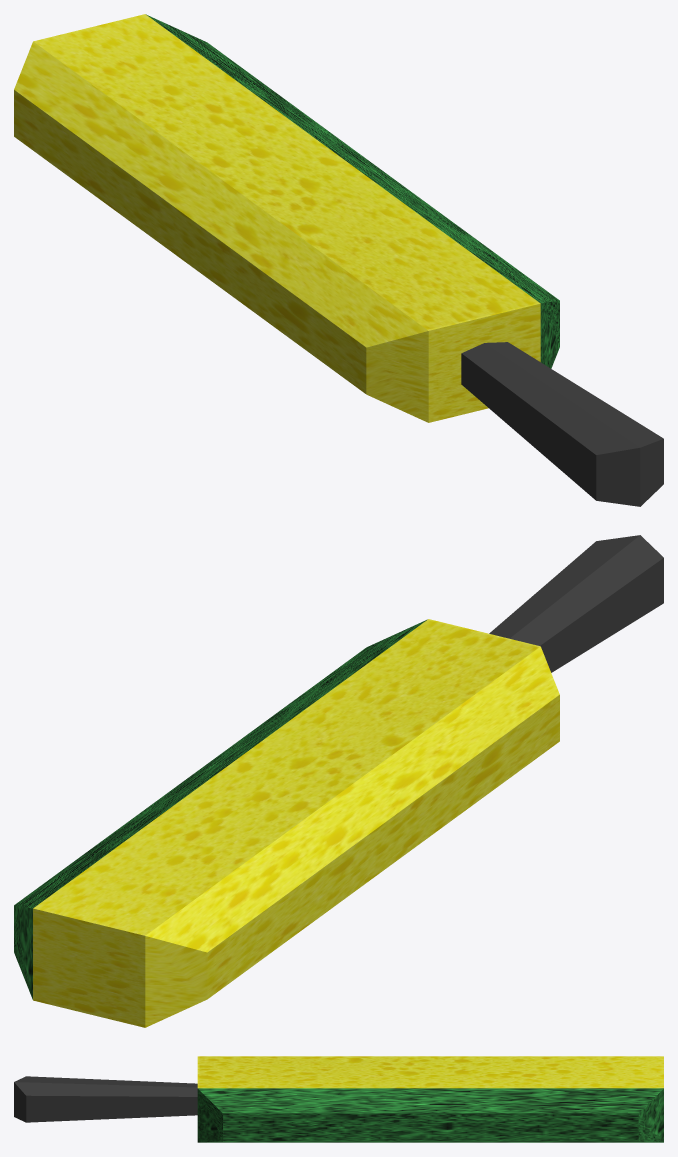
File: sponge_sword.glb
The picture shows the model from 3 angles, top to bottom: view 1: azimuth 30°, elevation 25°; view 2: azimuth 150°, elevation 25°; view 3: azimuth 270°, elevation 25°; orthographic projection. The views are drawn at different scales.
Parts seen in each view (by area): view 1: Cube; view 2: Cube; view 3: Cube.
Boxes of the visible parts, bbox=[...] form: Cube: bbox=[14, 14, 663, 506]; Cube: bbox=[14, 535, 663, 1027]; Cube: bbox=[14, 1056, 663, 1142].
Size of the model in its own units: 0.4396 by 0.2 by 2.17.
Materials: 1 (1 with a texture image).
